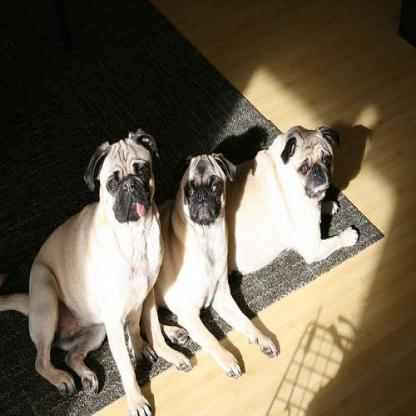pug: (0, 122, 191, 413), (146, 149, 279, 374), (225, 126, 358, 275)
